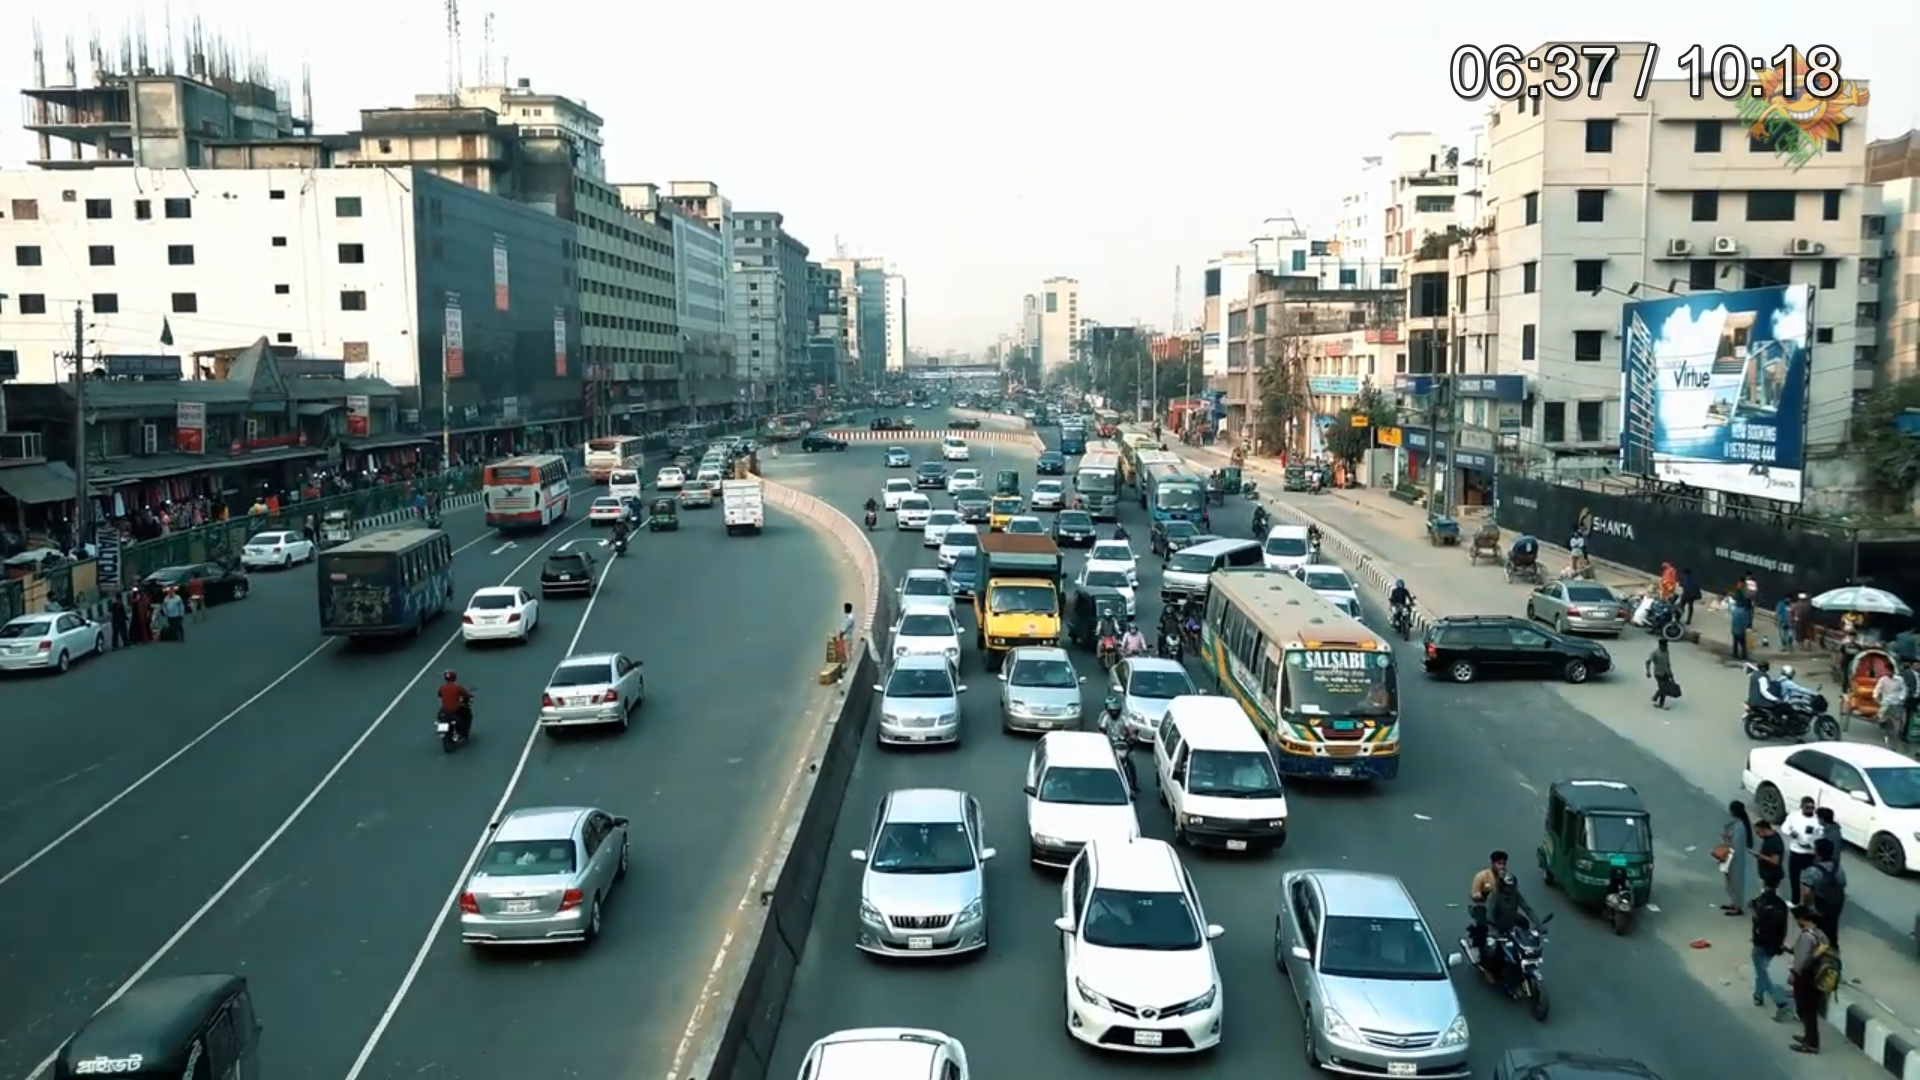MotorCycle: (1462, 851, 1568, 1034)
